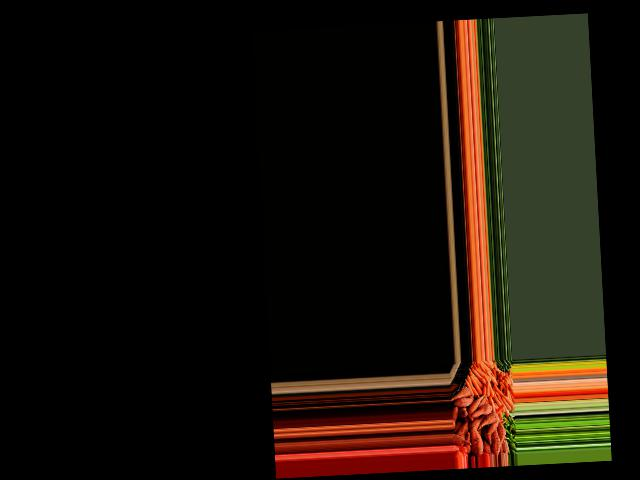carrot: (470, 374, 481, 396)
